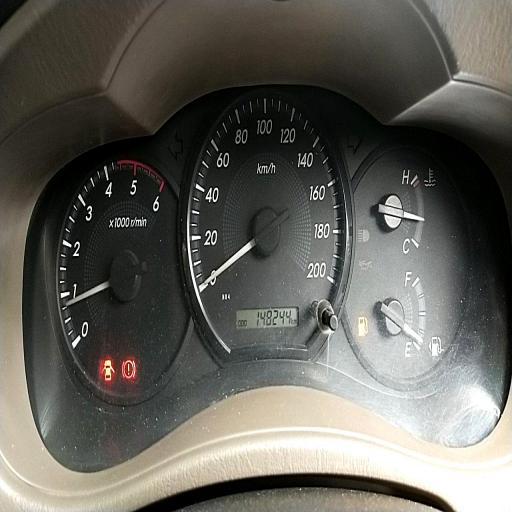brake_system_fault: (122, 359, 136, 379)
tachometer: (56, 152, 194, 401)
